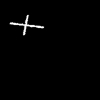single_crochet: (10, 15, 43, 34)
